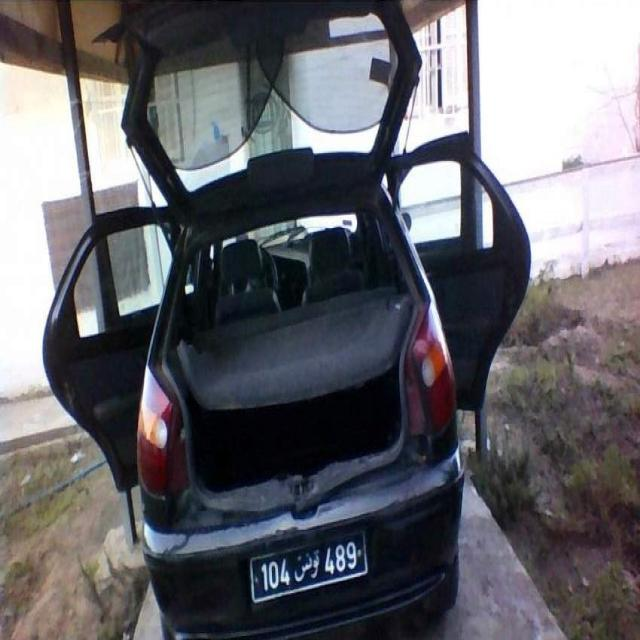licence plate: (249, 529, 368, 604)
